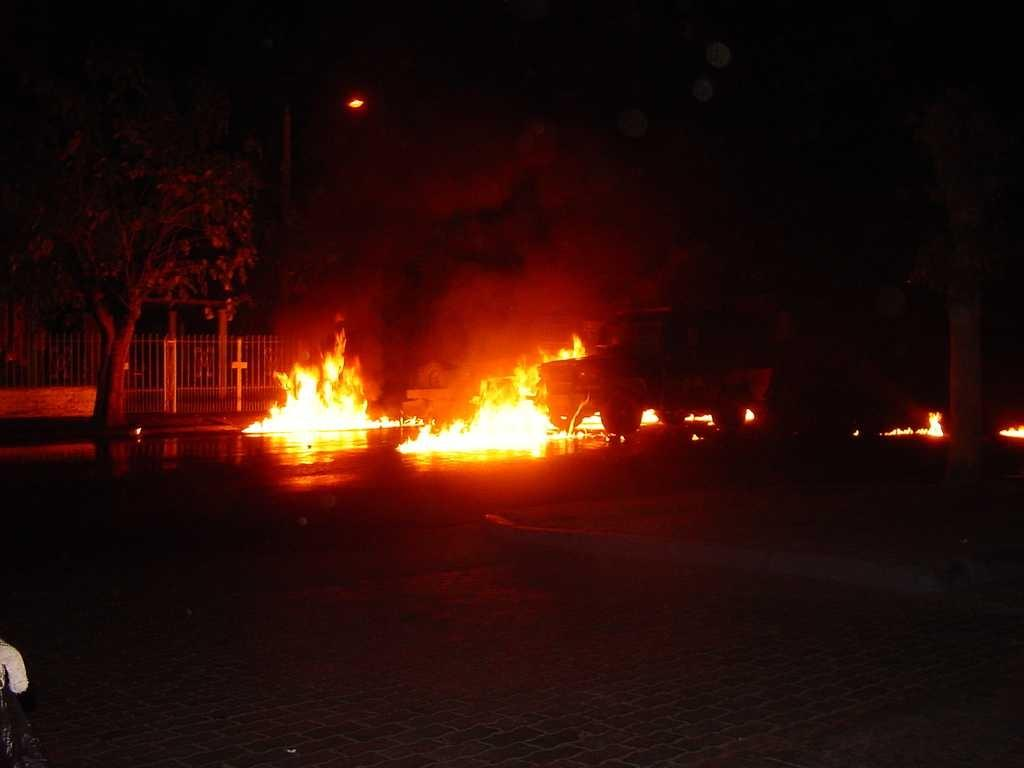fire: (278, 376, 360, 432), (472, 400, 550, 448)
